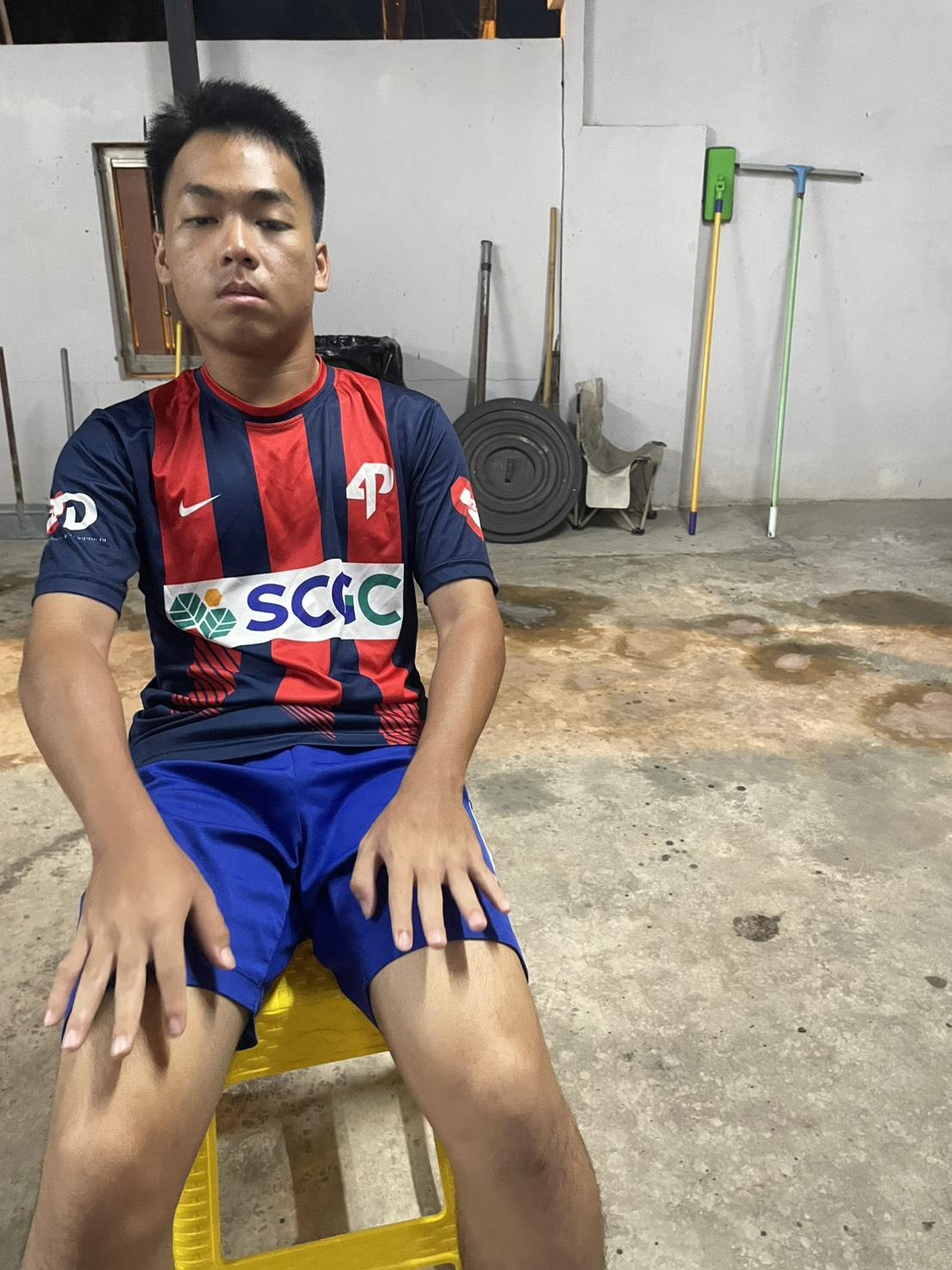BadPosture: (20, 82, 531, 1034)
